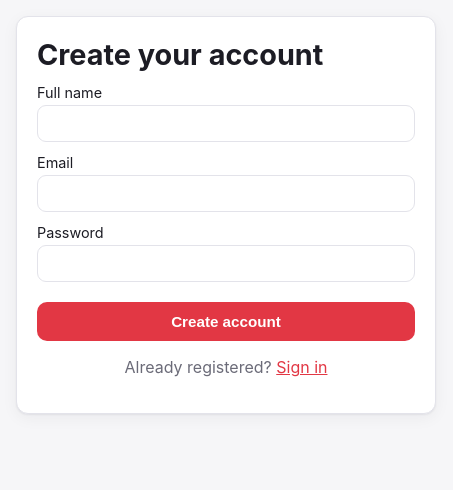
Test case: AuthPage (UI validation + error handling) › validates registration input before calling the API
Type "nope" into the field labelled "Email" at (226, 194), box [37,175,415,212]
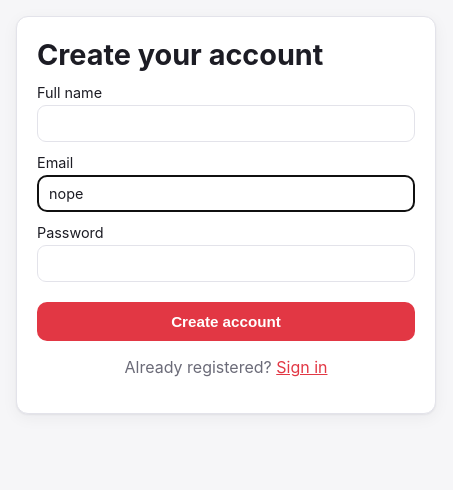
Type "short" into the password field labelled "Password" at (226, 264), box [37,245,415,282]
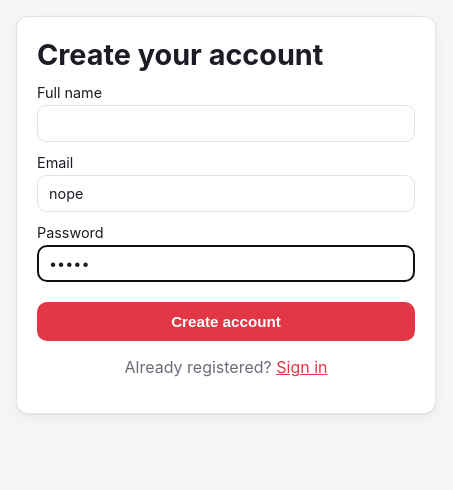
Click the button "Create account" at (226, 322), box [37,302,415,341]
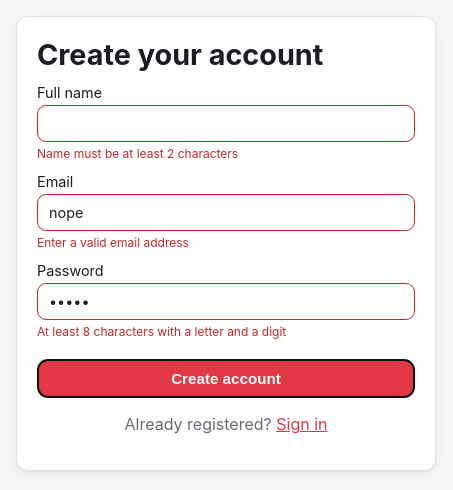
Now the text "Name must be at least 2 characters" is shown, box [37,146,238,161]
Now the text "Enter a valid email address" is shown, box [37,235,189,250]
Now the text "At least 8 characters with a letter and a digit" is shown, box [37,324,286,339]
